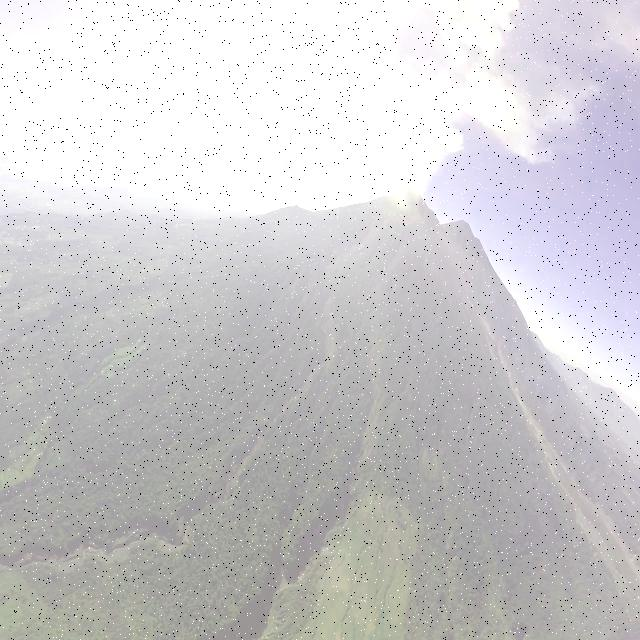Plume: (306, 61, 560, 195)
Summit: (394, 178, 426, 203)
